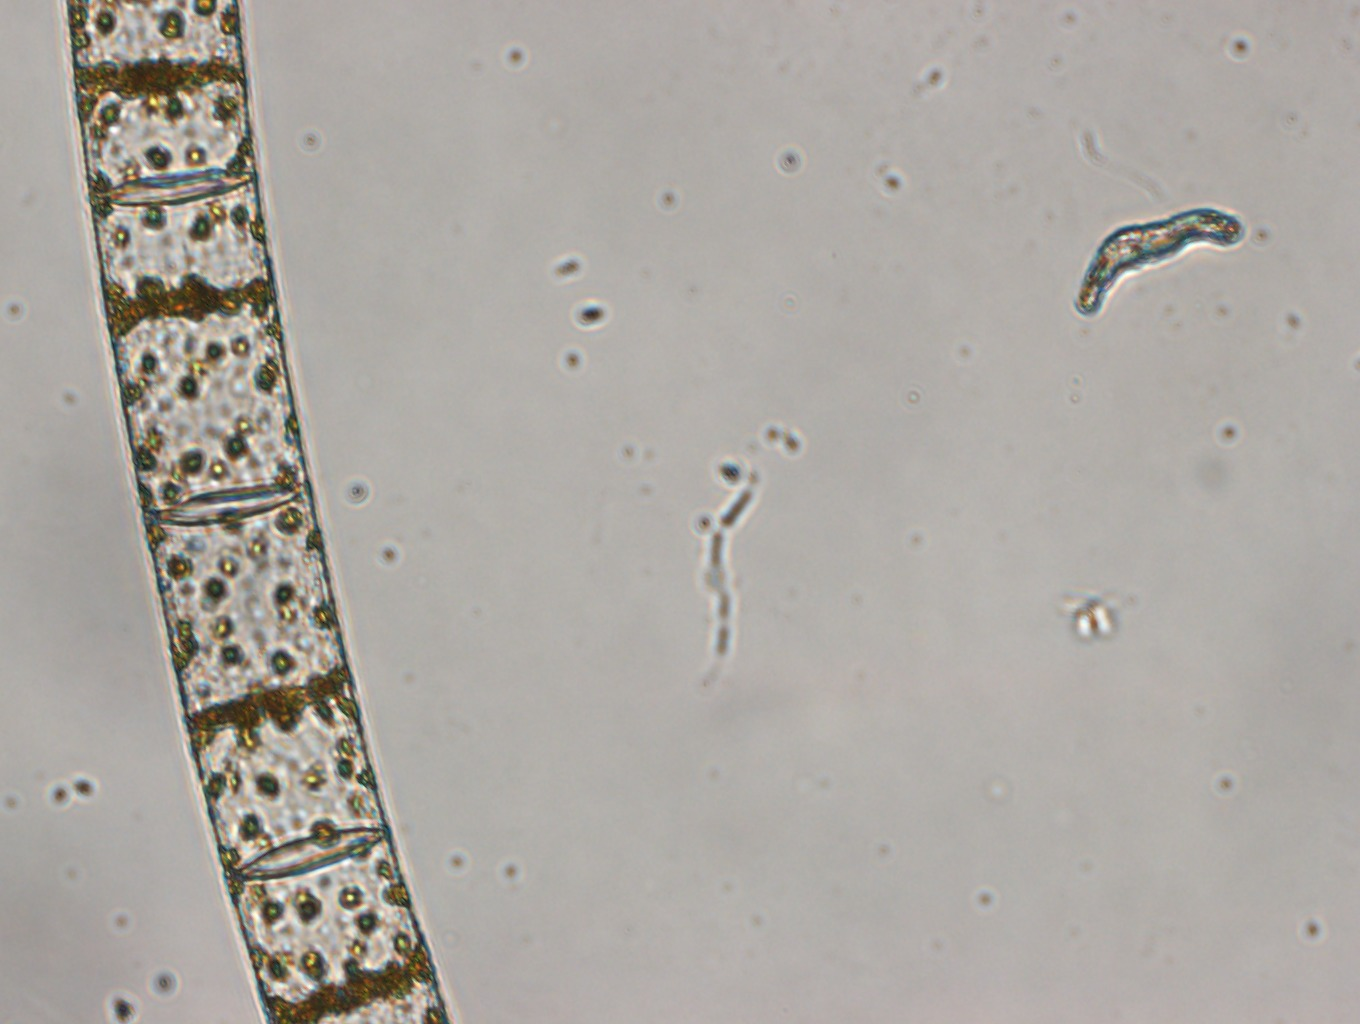guinardia flaccida: (65, 1, 450, 1024)
